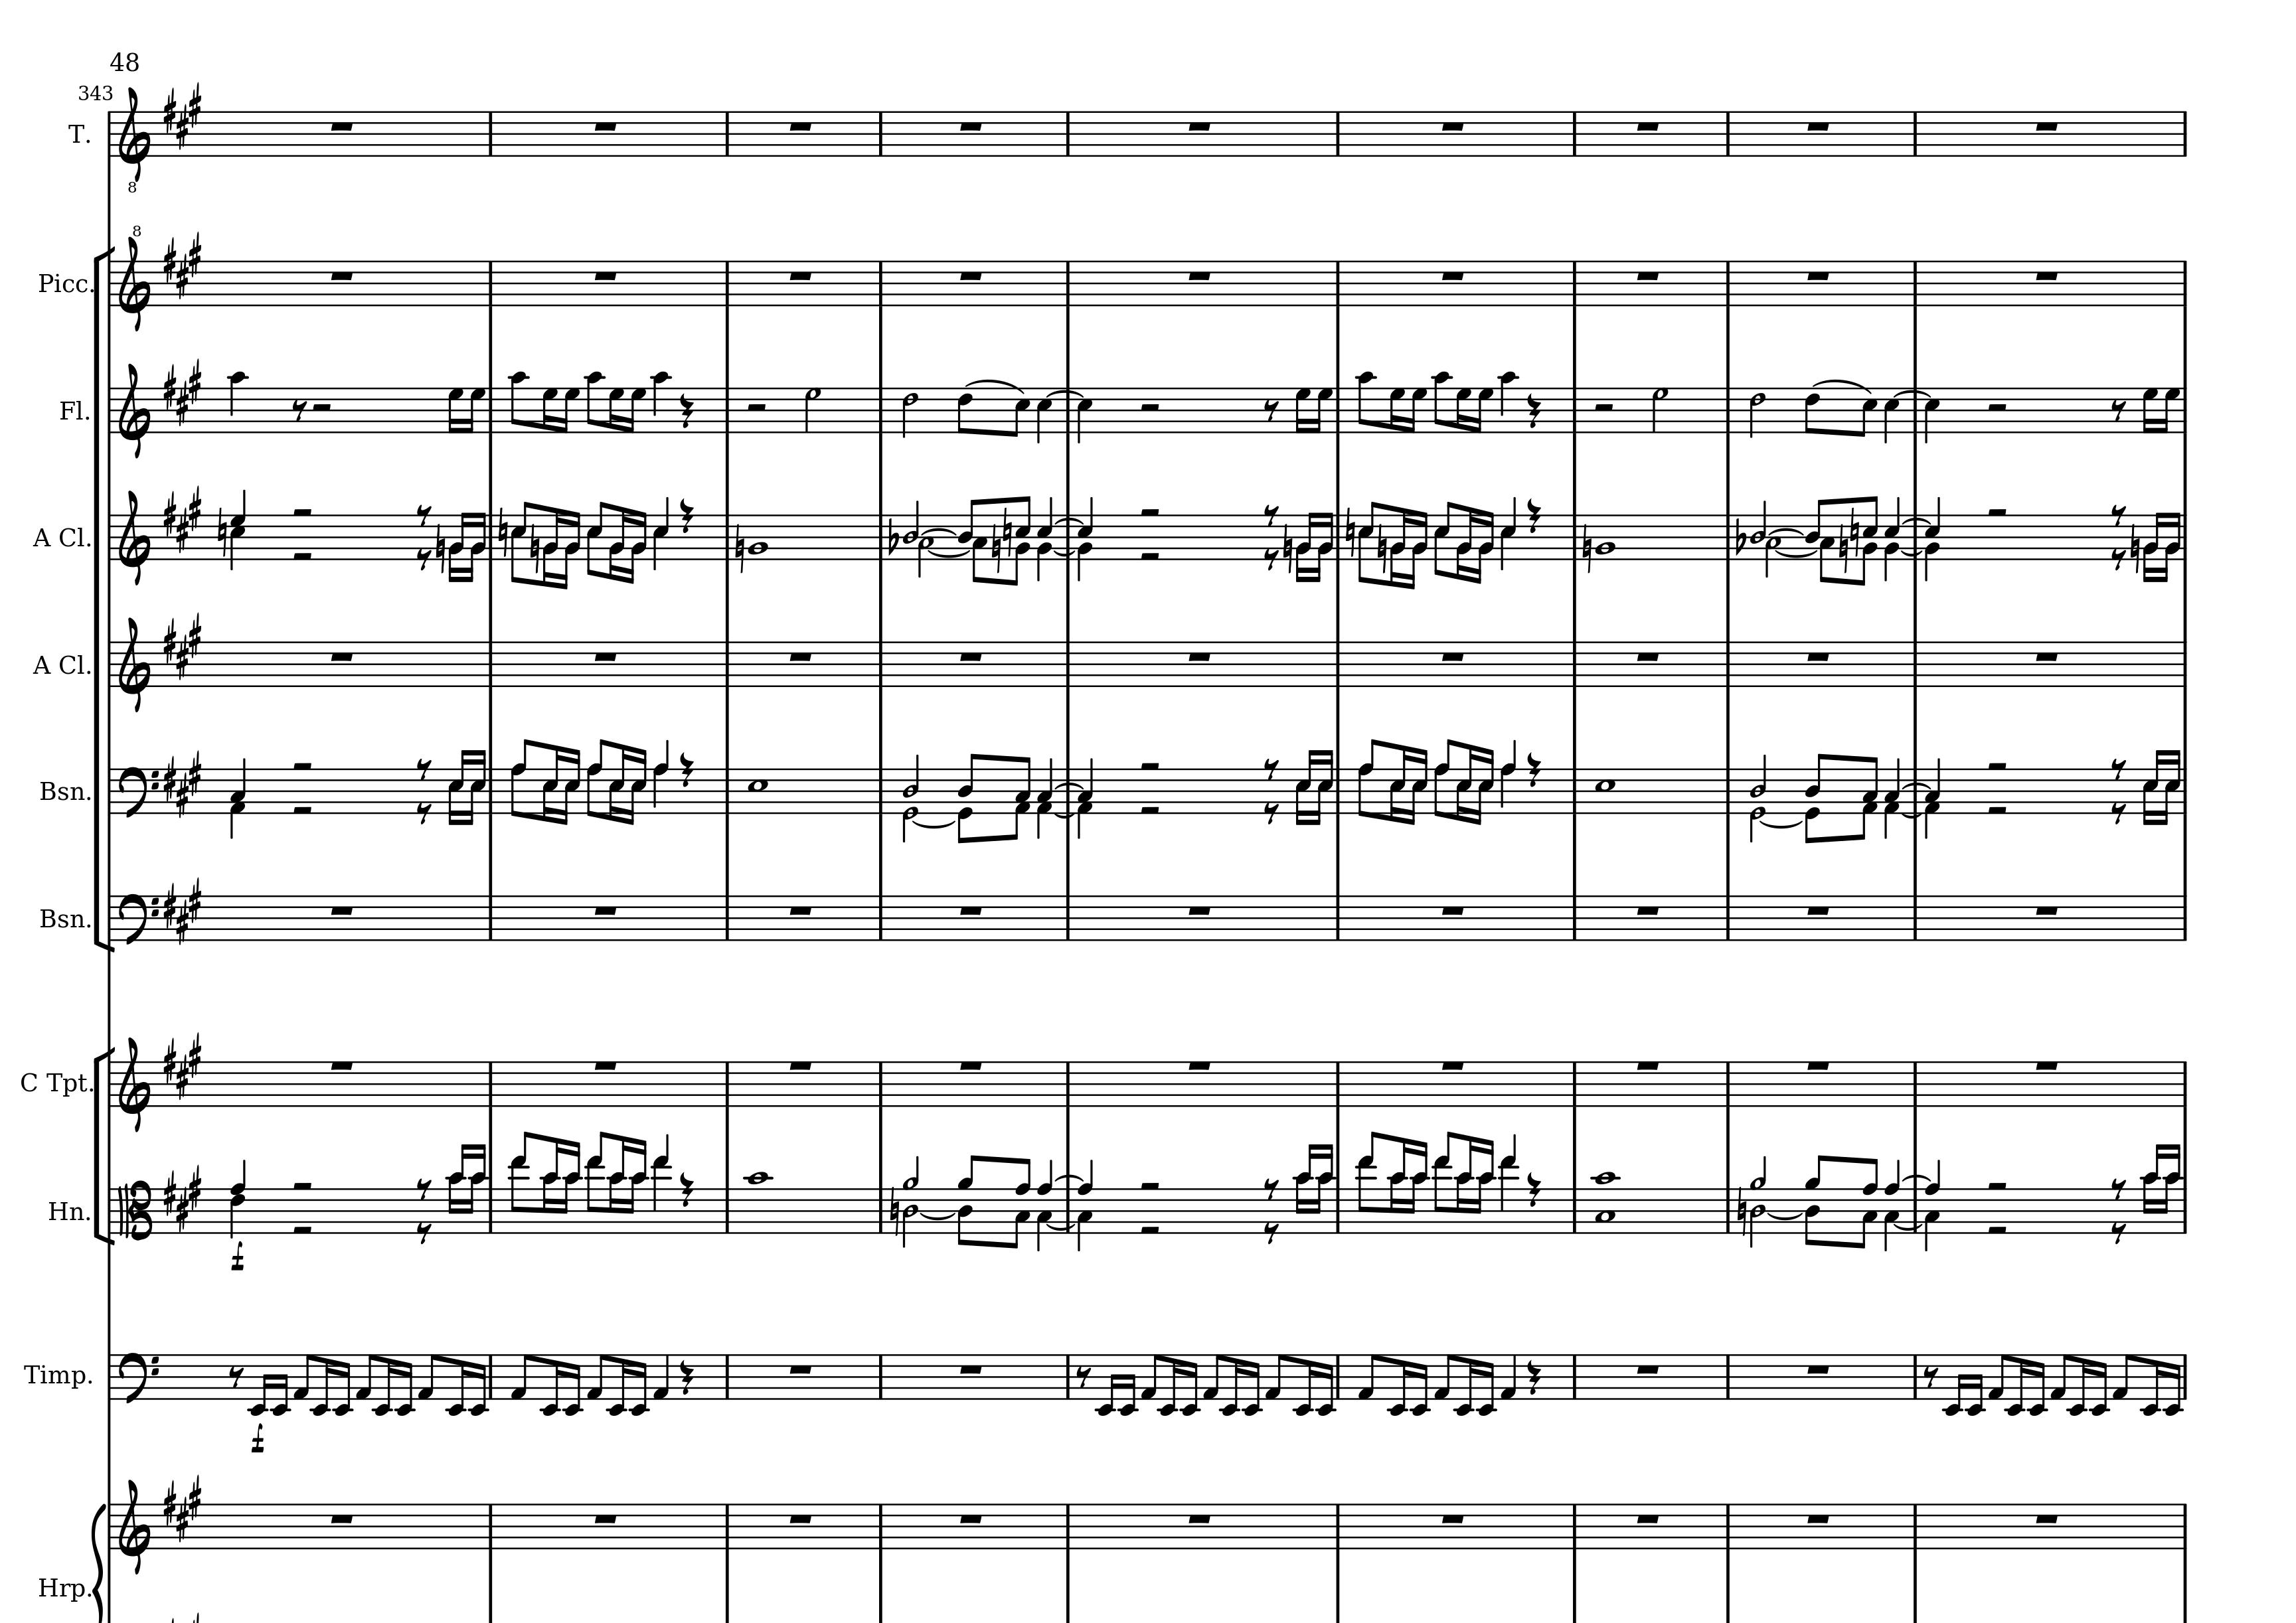16_-2: (1094, 1351, 1117, 1416), (539, 1351, 560, 1416), (1293, 1351, 1314, 1416), (1386, 1351, 1407, 1416), (1453, 1351, 1474, 1416), (248, 1352, 269, 1416), (444, 1352, 466, 1416), (606, 1352, 627, 1416), (1158, 1352, 1179, 1416), (1943, 1352, 1964, 1416), (2140, 1352, 2161, 1416), (629, 1351, 648, 1417), (332, 1351, 351, 1416), (467, 1352, 487, 1417), (562, 1351, 581, 1416), (1179, 1351, 1198, 1416), (1221, 1351, 1240, 1416), (1316, 1351, 1335, 1416), (1409, 1351, 1428, 1416), (2027, 1351, 2047, 1416), (2068, 1351, 2087, 1416), (2089, 1351, 2108, 1416), (311, 1352, 330, 1416), (372, 1352, 392, 1416), (1117, 1352, 1137, 1416), (1240, 1352, 1260, 1416), (1477, 1351, 1495, 1417), (271, 1351, 288, 1416), (1966, 1351, 1983, 1416), (2162, 1351, 2180, 1416), (395, 1352, 413, 1416), (2006, 1352, 2024, 1416)
16_1: (1498, 1354, 1516, 1398)
16_7: (559, 385, 580, 434), (1312, 386, 1333, 434), (1472, 386, 1493, 434), (1407, 385, 1426, 434), (466, 386, 485, 434), (625, 386, 645, 434), (446, 385, 464, 436), (2141, 386, 2159, 434), (2161, 386, 2178, 434), (541, 385, 557, 434), (1388, 385, 1404, 434), (608, 385, 624, 432), (1295, 386, 1310, 434), (1455, 385, 1470, 432)
1_10: (745, 1170, 768, 1235)
1_2: (1593, 511, 1616, 560)
1_5: (1593, 766, 1616, 815), (747, 766, 768, 815)
2_0_4: (1750, 754, 1769, 843), (901, 755, 921, 843)
2_2: (747, 515, 766, 564)
2_4: (901, 499, 919, 562), (1750, 499, 1767, 562)
2_4_9: (901, 1156, 921, 1245), (1750, 1158, 1767, 1247)
2_6: (1748, 386, 1765, 439), (901, 386, 919, 437)
2_7: (803, 386, 822, 434), (1651, 386, 1669, 434)
3: (100, 83, 112, 100), (77, 84, 90, 100)
4: (109, 49, 125, 70), (90, 83, 102, 100)
4_1: (652, 1352, 669, 1400)
4_10: (228, 369, 248, 434), (650, 369, 669, 434), (1498, 369, 1516, 434)
4_1_3: (1012, 755, 1033, 840), (1883, 757, 1903, 838), (228, 759, 248, 838), (1077, 757, 1094, 840), (1924, 757, 1941, 838), (1036, 759, 1054, 840)
4_2_5: (1036, 497, 1056, 583), (1924, 495, 1943, 580), (1883, 495, 1901, 581), (1077, 497, 1094, 581)
4_3_8: (1036, 1159, 1056, 1254), (1924, 1158, 1943, 1252), (1077, 1159, 1094, 1251), (1883, 1161, 1901, 1252)
4_5: (1035, 386, 1052, 443), (1077, 385, 1093, 444), (1924, 385, 1939, 444), (1883, 386, 1899, 443)
4_6_8: (228, 1161, 244, 1240)
8: (125, 49, 141, 72)
8_0_4: (957, 754, 978, 845)
8_1: (1263, 1351, 1286, 1400), (509, 1352, 532, 1400), (1356, 1352, 1379, 1400), (416, 1351, 437, 1400), (1433, 1351, 1455, 1400), (2112, 1351, 2133, 1400), (292, 1352, 313, 1400), (355, 1352, 376, 1400), (585, 1352, 606, 1400), (1202, 1352, 1223, 1400), (1987, 1352, 2008, 1400), (2048, 1352, 2069, 1400), (1140, 1352, 1159, 1400)
8_10: (585, 369, 604, 434), (1356, 369, 1375, 434), (509, 369, 527, 434), (1433, 369, 1451, 434)
8_1_3: (1857, 755, 1880, 841)
8_2_4: (1802, 754, 1827, 843)
8_2_5: (1860, 495, 1880, 587), (1012, 495, 1031, 585)
8_3: (1808, 497, 1825, 560)
8_3_8: (1857, 1158, 1880, 1247), (1012, 1156, 1033, 1249)
8_4: (957, 497, 977, 560)
8_4_9: (1804, 1154, 1827, 1245), (957, 1154, 978, 1245)
8_5: (1857, 385, 1878, 437), (1010, 385, 1029, 437)
8_6: (956, 386, 973, 436), (1804, 386, 1820, 436)
A_S: (160, 873, 206, 947), (160, 1158, 204, 1230), (160, 610, 204, 678), (162, 79, 204, 149), (162, 228, 204, 299), (162, 748, 204, 819), (162, 1029, 204, 1100), (160, 357, 202, 425), (162, 1472, 204, 1540)
Bracke: (91, 242, 119, 961), (91, 1043, 114, 1249)
Bsn: (39, 905, 84, 933), (40, 778, 84, 804)
Cclef: (116, 1177, 153, 1242)
Cl: (58, 522, 86, 552), (58, 650, 86, 680)
Fclef: (118, 764, 160, 820), (118, 892, 160, 949), (118, 1351, 160, 1405)
Fl: (58, 397, 84, 422)
Flat: (887, 515, 899, 555), (1734, 515, 1746, 555)
Gclef: (118, 487, 153, 587), (118, 360, 153, 458), (118, 615, 153, 713), (118, 1033, 151, 1135), (118, 1475, 151, 1576)
High_Gclef: (118, 223, 151, 330)
Hn: (39, 1574, 84, 1602), (46, 1196, 84, 1223)
Lower_Gclef: (118, 84, 151, 195)
Natural: (733, 520, 745, 574), (1581, 522, 1593, 574), (1848, 508, 1860, 560), (497, 506, 509, 557), (1001, 508, 1014, 559), (214, 506, 227, 555), (434, 523, 446, 573), (1344, 506, 1356, 555), (1838, 523, 1850, 573), (887, 1186, 899, 1235), (1736, 1186, 1748, 1235), (1282, 522, 1293, 574), (991, 523, 1001, 573), (529, 525, 539, 571), (1377, 527, 1388, 573), (2129, 523, 2140, 569)
Picc: (35, 269, 88, 299)
Rests1: (327, 118, 357, 133), (592, 118, 620, 133), (592, 648, 620, 664), (327, 1511, 357, 1525), (1186, 118, 1214, 132), (2032, 118, 2061, 132), (957, 267, 986, 281), (1186, 267, 1214, 281), (1439, 267, 1467, 281), (1804, 267, 1832, 281), (957, 650, 986, 664), (1186, 650, 1214, 664), (1439, 650, 1467, 664), (1634, 650, 1662, 664), (2032, 650, 2061, 664), (957, 903, 986, 917), (1186, 903, 1214, 917), (1439, 903, 1467, 917), (1634, 903, 1662, 917), (1804, 903, 1832, 917), (2032, 903, 2061, 917), (329, 1057, 357, 1071), (957, 1057, 986, 1071), (1186, 1057, 1214, 1071), (1439, 1057, 1467, 1071), (1634, 1057, 1662, 1071), (1804, 1057, 1832, 1071), (2032, 1057, 2061, 1071), (957, 1361, 986, 1375), (1634, 1361, 1662, 1375), (957, 1511, 986, 1525), (1186, 1511, 1214, 1525), (1439, 1511, 1467, 1525), (1804, 1511, 1832, 1525), (2032, 1511, 2061, 1525), (329, 267, 355, 281), (592, 267, 618, 281), (787, 267, 813, 281), (2032, 267, 2059, 281), (787, 650, 813, 664), (329, 903, 355, 917), (592, 903, 618, 917), (787, 903, 813, 917), (592, 1057, 618, 1071), (787, 1057, 813, 1071), (787, 1361, 813, 1375), (1804, 1361, 1830, 1375), (592, 1511, 618, 1525), (787, 119, 815, 132), (957, 119, 986, 132), (1439, 119, 1467, 132), (1634, 119, 1662, 132), (1804, 119, 1832, 132), (1634, 269, 1662, 281), (329, 650, 357, 662), (1804, 650, 1832, 662), (787, 1512, 815, 1525), (1634, 1512, 1662, 1525)
Rests2: (290, 504, 314, 520), (1137, 504, 1161, 520), (1985, 504, 2010, 520), (290, 757, 314, 773), (743, 400, 769, 415), (1137, 400, 1163, 415), (1590, 400, 1616, 415), (1137, 548, 1163, 562), (1985, 400, 2010, 415), (290, 548, 314, 562), (290, 803, 314, 817), (1137, 759, 1161, 773), (1137, 803, 1161, 817), (1985, 759, 2010, 773), (1985, 803, 2010, 817), (1138, 1179, 1161, 1193), (1985, 1221, 2008, 1235), (1985, 1179, 2008, 1193), (309, 400, 334, 413), (290, 1223, 314, 1235), (1137, 1223, 1161, 1235), (292, 1179, 313, 1191)
Rests4: (1525, 390, 1542, 430), (678, 1170, 696, 1208), (1525, 1170, 1542, 1208), (678, 392, 694, 430), (1527, 750, 1542, 789), (1527, 1358, 1542, 1396), (678, 497, 694, 534), (1527, 497, 1542, 534), (678, 1358, 694, 1395), (680, 750, 694, 789)
Rests8: (1261, 801, 1281, 826), (1261, 1221, 1281, 1245), (1263, 397, 1281, 422), (2110, 397, 2127, 422), (415, 546, 432, 571), (2110, 546, 2127, 571), (415, 1221, 432, 1245), (415, 1175, 432, 1200), (290, 397, 307, 420), (415, 502, 432, 525), (2110, 502, 2127, 525), (415, 755, 432, 778), (415, 801, 432, 824), (2110, 801, 2127, 824), (2110, 1221, 2127, 1244), (227, 1365, 244, 1388), (1263, 546, 1279, 571), (1263, 755, 1279, 780), (1263, 1175, 1279, 1200), (2110, 1175, 2126, 1200), (2110, 757, 2127, 778), (1263, 502, 1279, 525), (1075, 1365, 1091, 1388), (1922, 1365, 1938, 1388)
Single_barline: (1908, 260, 1924, 306), (1330, 260, 1346, 306), (1908, 386, 1924, 432), (873, 768, 889, 813), (1908, 641, 1924, 685), (2177, 894, 2191, 941), (2178, 1180, 2191, 1233), (2177, 111, 2191, 156), (483, 111, 497, 156), (873, 260, 887, 306), (1061, 260, 1075, 306), (1720, 260, 1734, 306), (2177, 260, 2191, 306), (720, 260, 734, 306), (873, 386, 887, 432), (1720, 386, 1734, 432), (720, 386, 734, 432), (1061, 386, 1075, 432), (2178, 386, 2192, 432), (1567, 386, 1581, 432), (1567, 768, 1581, 813), (1720, 768, 1734, 813), (873, 894, 887, 940), (1061, 894, 1075, 940), (1567, 894, 1581, 940), (1908, 894, 1922, 940), (1908, 1184, 1922, 1230), (1061, 1186, 1075, 1231), (1567, 1187, 1581, 1233), (1061, 111, 1075, 155), (483, 260, 497, 304), (1567, 260, 1581, 304), (873, 515, 887, 559), (1567, 515, 1581, 559), (1720, 515, 1734, 559), (873, 641, 887, 685), (1061, 641, 1075, 685), (1330, 641, 1344, 685), (1567, 641, 1581, 685), (1722, 641, 1736, 685), (2177, 641, 2191, 685), (483, 641, 497, 685), (720, 641, 734, 685), (483, 1061, 497, 1105), (720, 1061, 734, 1105), (873, 1061, 887, 1105), (1061, 1061, 1075, 1105), (1332, 1061, 1346, 1105), (1567, 1061, 1581, 1105), (1720, 1061, 1734, 1105), (1908, 1061, 1922, 1105), (873, 1187, 887, 1231), (720, 1187, 734, 1231), (1061, 1504, 1075, 1547), (720, 1504, 734, 1547), (1332, 513, 1344, 560), (104, 894, 116, 941), (875, 111, 887, 156), (1332, 111, 1344, 156), (1332, 386, 1344, 432), (485, 386, 497, 432), (2178, 515, 2191, 560), (720, 768, 733, 813), (1332, 768, 1344, 813), (2178, 768, 2191, 813), (485, 894, 497, 940), (720, 894, 733, 940), (1332, 894, 1344, 940), (1722, 894, 1734, 940), (1332, 1186, 1344, 1231), (2178, 1502, 2191, 1547), (1569, 111, 1581, 155), (1722, 111, 1734, 155), (1910, 111, 1922, 155), (720, 111, 733, 155), (720, 515, 733, 559), (2178, 1061, 2191, 1105), (1722, 1187, 1734, 1231), (720, 1354, 733, 1398), (875, 1354, 887, 1398), (1569, 1354, 1581, 1398), (1722, 1354, 1734, 1398), (1061, 1354, 1073, 1398), (1910, 1354, 1922, 1398), (483, 1504, 495, 1547), (875, 1504, 887, 1547), (1332, 1504, 1344, 1547), (1569, 1504, 1581, 1547), (1722, 1504, 1734, 1547), (1910, 1504, 1922, 1547), (485, 513, 495, 560), (104, 1187, 114, 1235), (2180, 1352, 2191, 1400), (104, 111, 114, 156), (104, 386, 114, 432), (485, 768, 495, 813), (104, 515, 114, 559), (104, 641, 114, 685), (104, 769, 114, 813), (485, 1187, 495, 1231), (485, 1354, 495, 1398), (1333, 1354, 1344, 1398), (104, 1354, 114, 1398), (105, 260, 114, 306), (105, 1059, 114, 1105), (105, 1504, 114, 1549), (1904, 536, 1924, 555)
Slur: (963, 378, 1026, 393), (1811, 378, 1873, 393), (912, 817, 957, 827), (1765, 1208, 1804, 1219), (1758, 819, 1802, 827), (1899, 780, 1932, 790), (1045, 388, 1084, 397), (919, 1210, 957, 1219), (1901, 515, 1932, 525), (1894, 388, 1931, 397), (1042, 1221, 1079, 1230), (924, 548, 970, 555), (1771, 548, 1816, 555), (1054, 1172, 1084, 1182), (1890, 1221, 1925, 1230), (1056, 515, 1084, 525), (1052, 782, 1086, 790), (1049, 810, 1079, 819), (1901, 1173, 1931, 1182), (922, 527, 957, 534), (1769, 527, 1804, 534), (1895, 810, 1924, 819), (1051, 548, 1077, 557), (1897, 548, 1924, 557)
Timp: (19, 1360, 86, 1393)
Tpt: (44, 1066, 88, 1096)
f: (248, 1421, 265, 1454), (228, 1240, 244, 1272)
